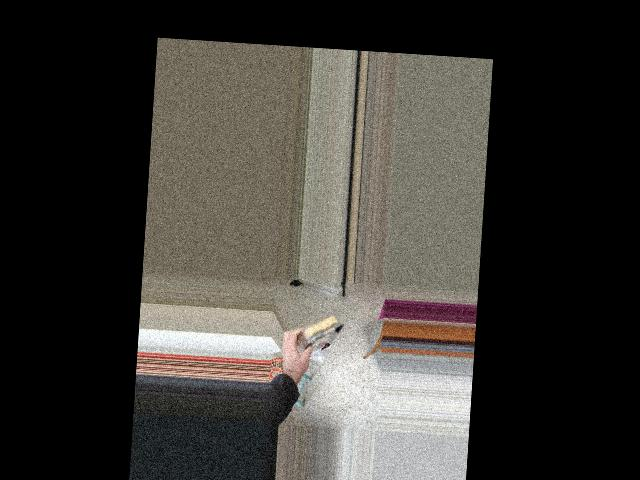cheese: (274, 303, 353, 368)
